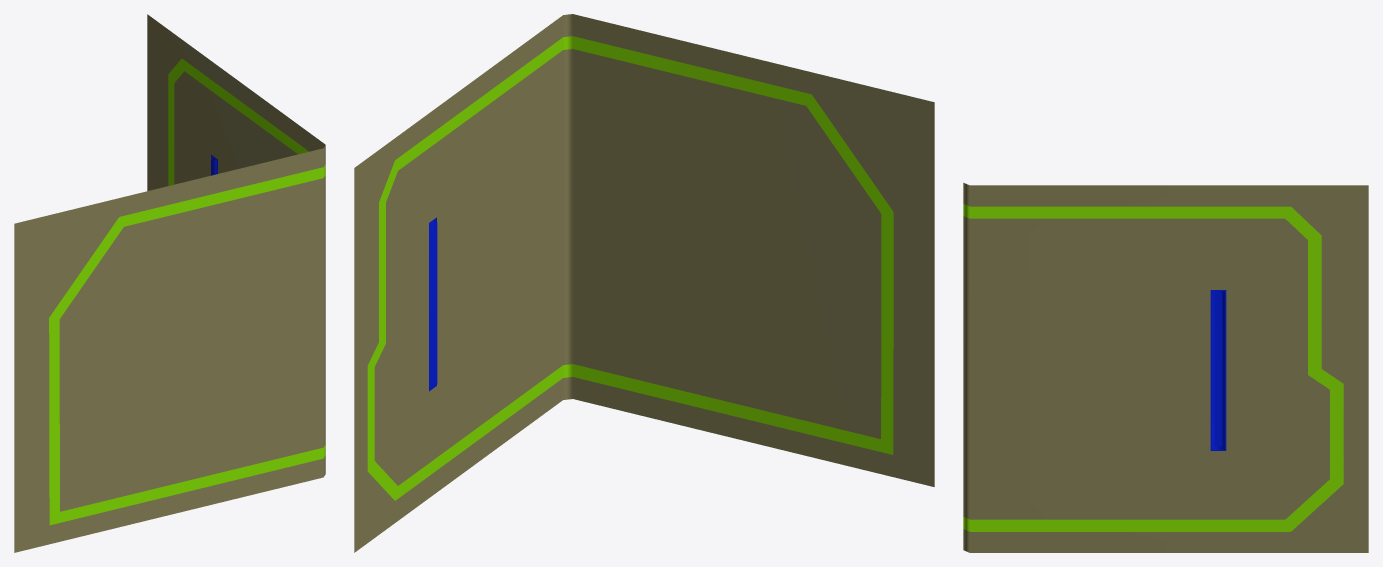
File: Building_Wall_03a_snaps016.FBX
3 views of the same model, side by side, from view 1: azimuth 30°, elevation 25°; view 2: azimuth 150°, elevation 25°; view 3: azimuth 270°, elevation 25° (orthographic). The views are drawn at different scales.
Parts seen in each view (by area): view 1: Building_Wall_03a_snaps016_LOD0; view 2: Building_Wall_03a_snaps016_LOD0; view 3: Building_Wall_03a_snaps016_LOD0.
Part boxes in pixels (x1=…): Building_Wall_03a_snaps016_LOD0: x1=14, y1=14, x2=325, y2=552; Building_Wall_03a_snaps016_LOD0: x1=354, y1=14, x2=934, y2=552; Building_Wall_03a_snaps016_LOD0: x1=963, y1=182, x2=1368, y2=552.
Size of what is drawn, in the model's own units: 3 by 3 by 3.
